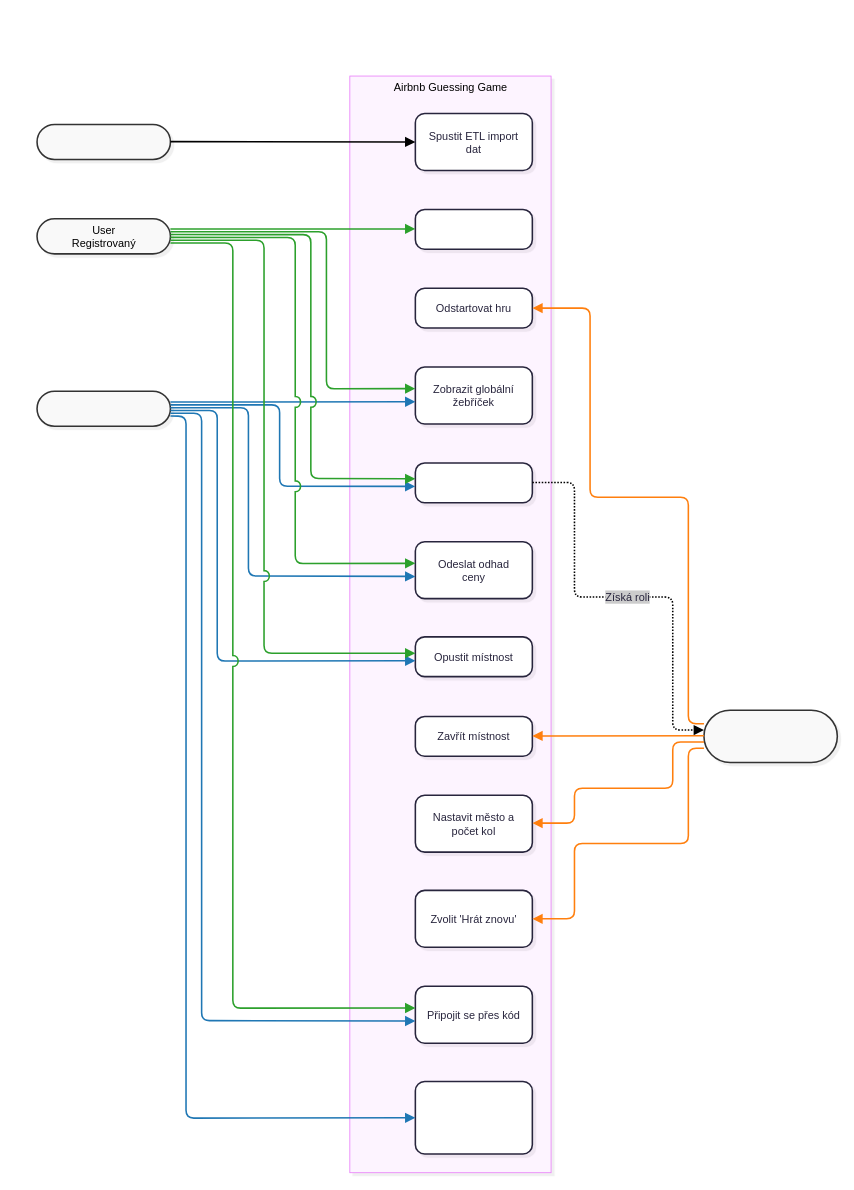
Some shapes in this 854 by 1190 pixel diagram are drawn without their labels. Each missing label, with the centre of its shape:
Guest Neregistrovaný: (x=105, y=410)
Host Zakladatel místnosti: (x=772, y=737)
Odhlásit se: (x=475, y=230)
Přihlásit / Registrovat přes Auth0: (x=475, y=1119)
Systém / Admin: (x=105, y=143)
Založit místnost: (x=475, y=484)
